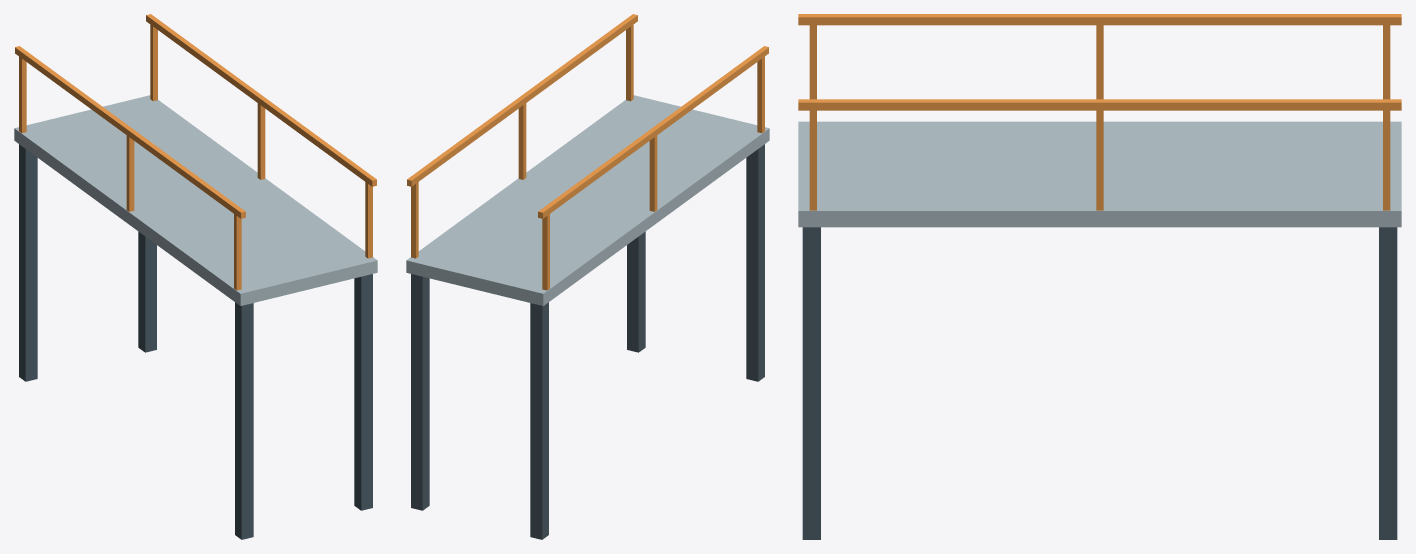
File: overhead-service-bridge.glb
3 renders of one model, left to right at view 1: azimuth 30°, elevation 25°; view 2: azimuth 150°, elevation 25°; view 3: azimuth 270°, elevation 25°, orthographic. The views are drawn at different scales.
Visible parts, largest first — view 1: steel, dark, orange; view 2: steel, dark, orange; view 3: steel, orange, dark.
Part boxes in pixels (x1,y1,x2,y2): steel: (14, 95, 377, 305); dark: (19, 144, 372, 539); orange: (15, 14, 376, 290); steel: (406, 95, 769, 305); dark: (411, 144, 764, 539); orange: (407, 14, 768, 290); steel: (798, 121, 1401, 227); orange: (798, 14, 1401, 210); dark: (802, 227, 1397, 539).
Size of the model in its own units: 1.4 by 3.21 by 4.
